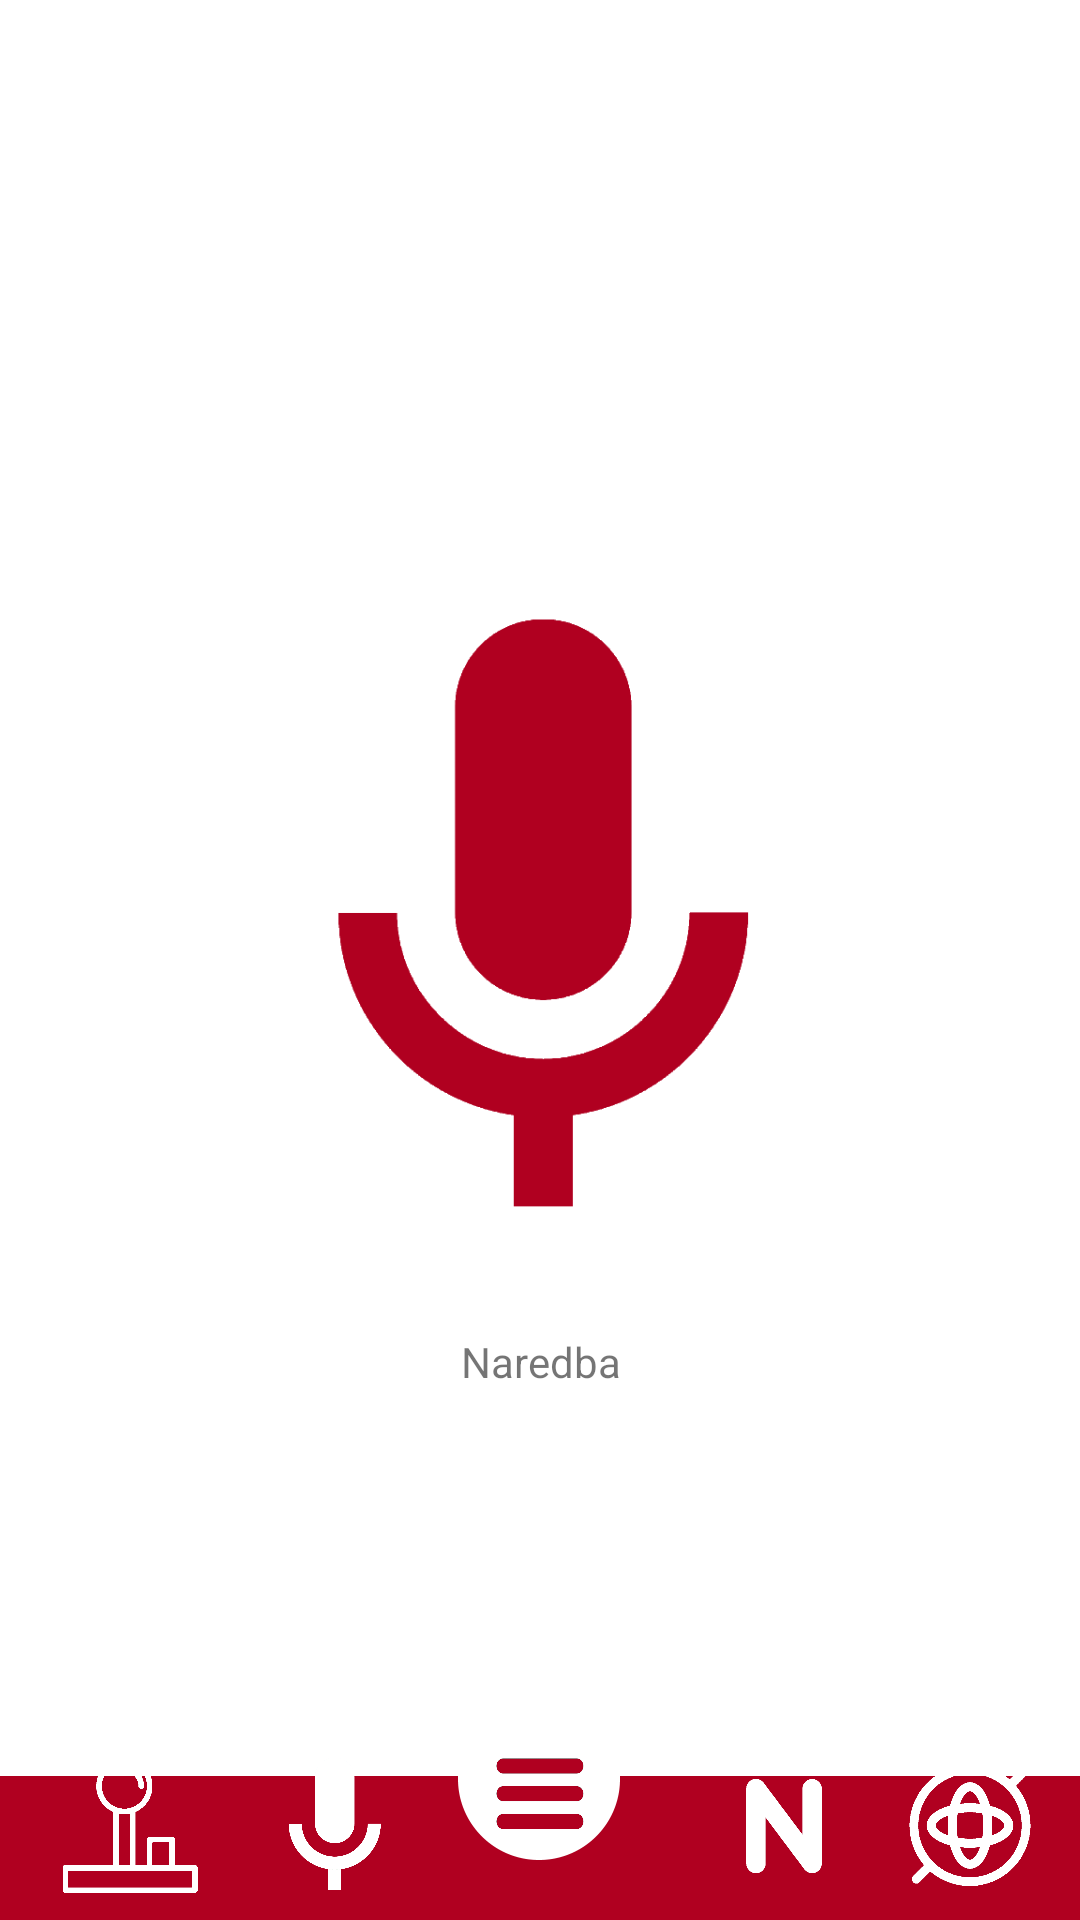

Where icons sit on this 1080x1920 app screen, as BBox(x1, y1, x2, y2):
icogyrowhite: BBox(895, 1758, 1045, 1886)
icojoystickwhite: BBox(55, 1758, 205, 1893)
icomicwhite: BBox(259, 1756, 409, 1890)
iconormalwhite: BBox(746, 1779, 822, 1873)
